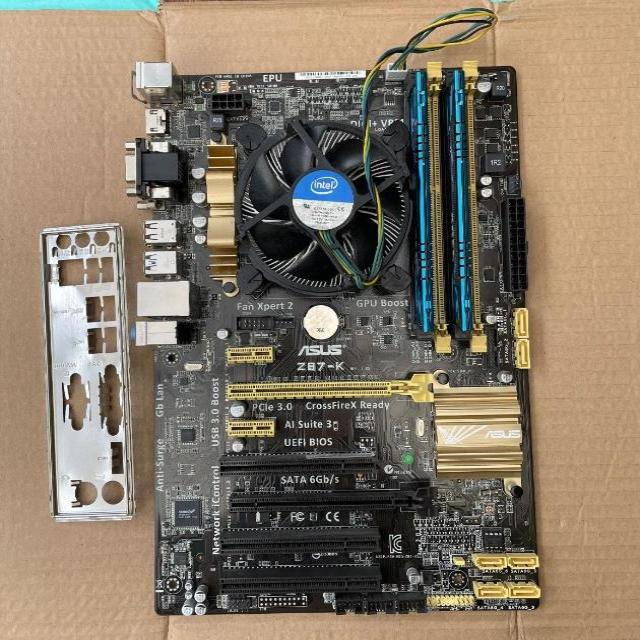CPU_Fan: (232, 115, 414, 297)
